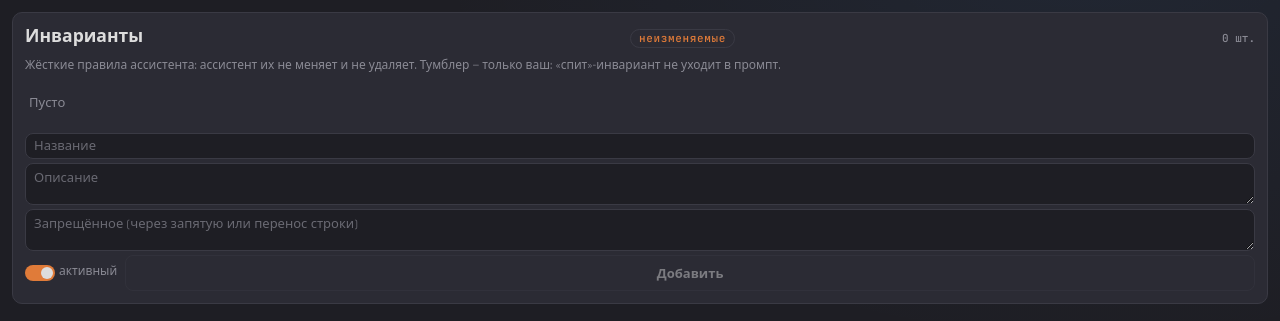
Test: InvariantsTab — добавление › кнопка «Добавить» disabled, пока не заполнены title и description
expect the button "Добавить" is disabled: met, box [125,254,1255,290]
In the field with placeholder "Название": x=640, y=146 [25,132,1255,158], type "Тон"
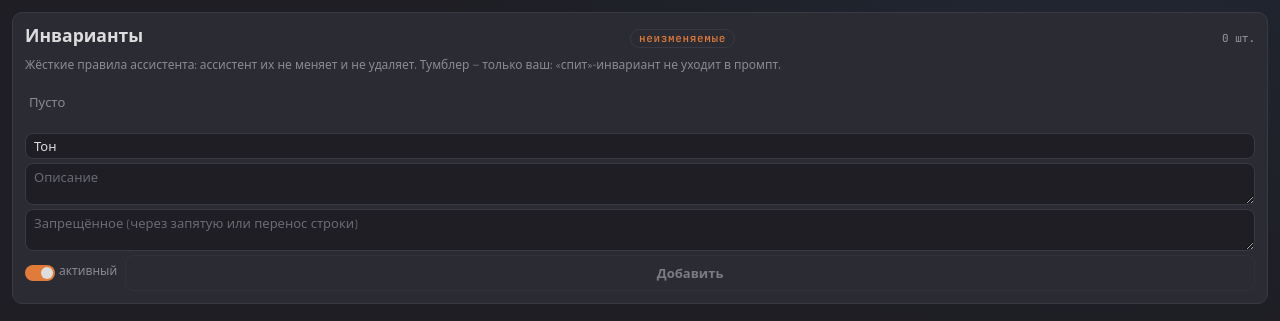
expect the button "Добавить" is disabled: met, box [125,254,1255,290]
In the text box with placeholder "Описание": x=640, y=184 [25,162,1255,204], type "кратко"
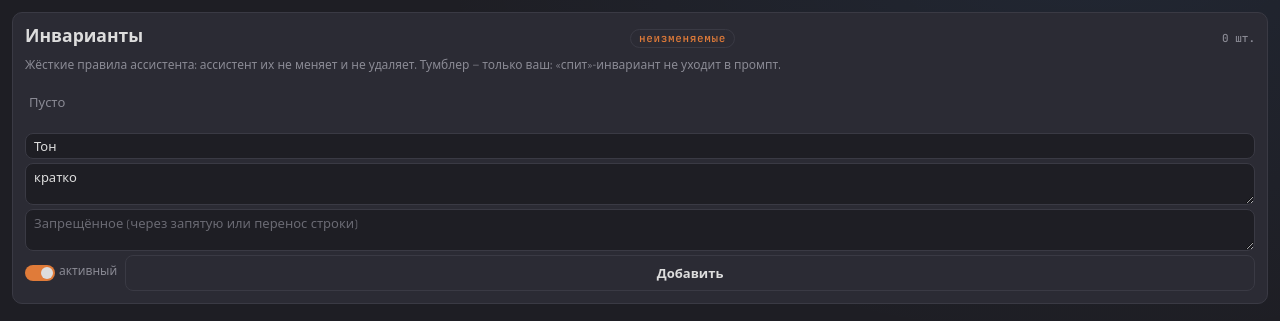
expect the button "Добавить" is enabled: met, box [125,254,1255,290]
